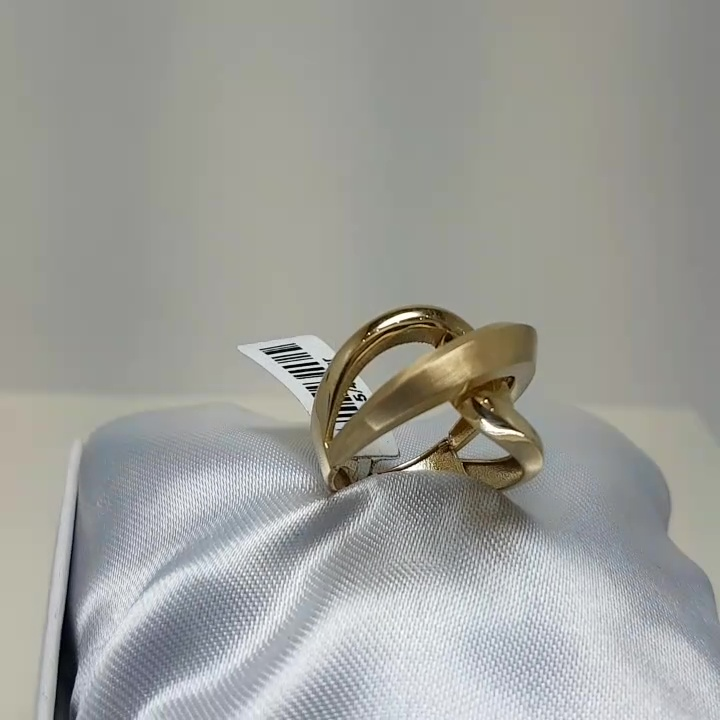Ring 3: (293, 285, 590, 538)
